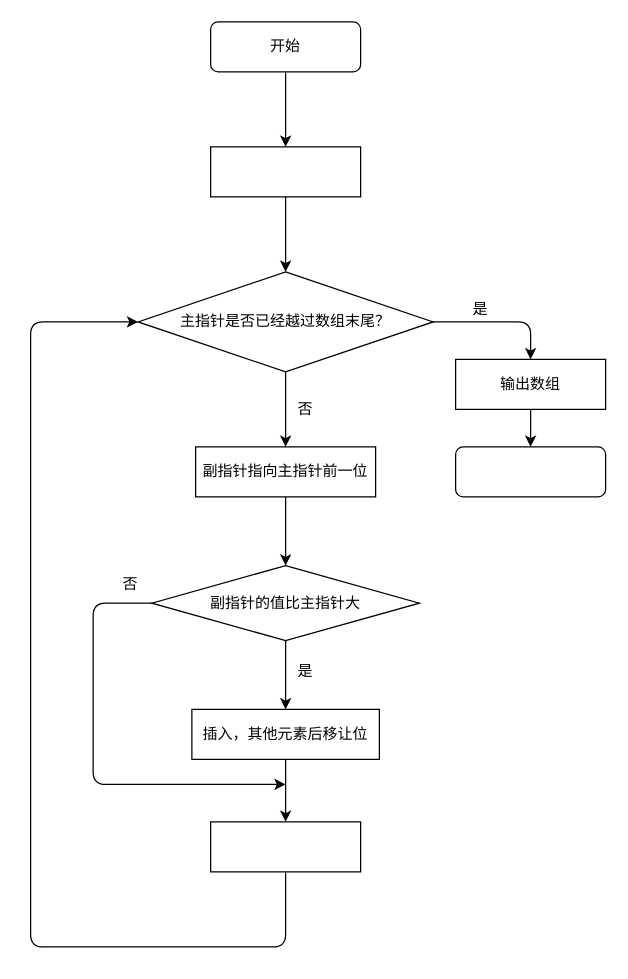
Image size: 628x979. Some labels were removed from this diagram. The shapes that lost their labels are listed below. From the top down, each one's centre as x and y in pixels, then its label:
At point 285,171: "初始化主指针".
At point 530,471: "结束".
At point 285,846: "主指针自增".
